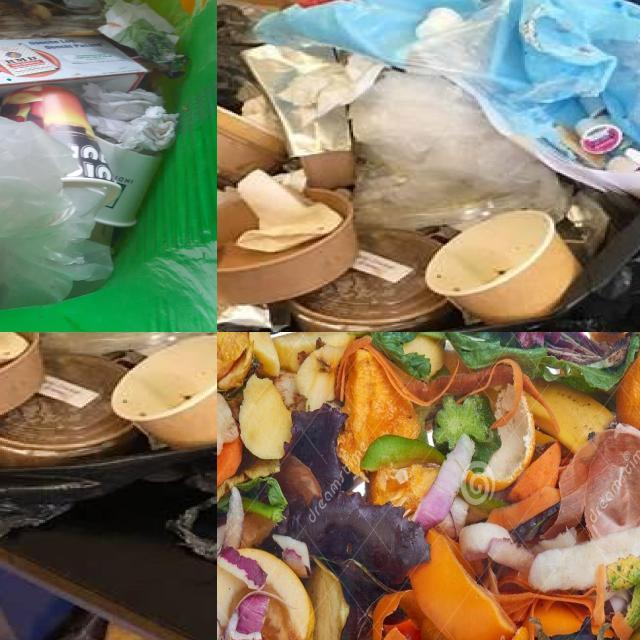Garbage: (217, 0, 640, 332), (217, 332, 640, 640), (0, 332, 217, 471)
Plastic: (256, 0, 640, 197), (350, 70, 572, 229)
Plastic_Bag: (0, 117, 113, 310)
